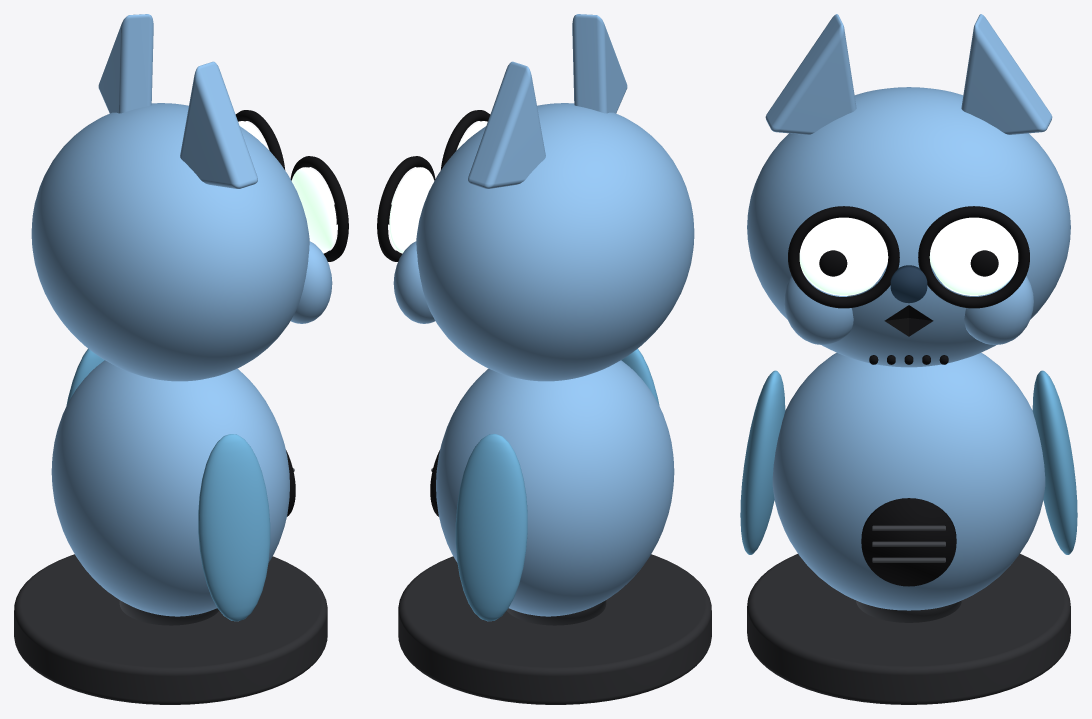
Rendered from sloppy_tron_v0.glb.
3 renders of one model, left to right at view 1: azimuth 30°, elevation 25°; view 2: azimuth 150°, elevation 25°; view 3: azimuth 270°, elevation 25°, orthographic. The views are drawn at different scales.
Visible parts, largest first — view 1: head_link__sloppy_mascot_shell, torso_link__rounded_sloppy_body, base_link__soft_tabletop_pedestal, right_side_fin__svg_arm_cue, antenna_right_link__sloppy_right_ear, antenna_left_link__sloppy_left_ear, right_eye_lens__svg_green_glow, right_cheek_blue_volume, right_eye_black_ring__svg_eyelid, body_yaw_joint__visual_axis, left_eye_black_ring__svg_eyelid, left_side_fin__svg_arm_cue; view 2: head_link__sloppy_mascot_shell, torso_link__rounded_sloppy_body, base_link__soft_tabletop_pedestal, left_side_fin__svg_arm_cue, antenna_left_link__sloppy_left_ear, antenna_right_link__sloppy_right_ear, left_eye_lens__svg_green_glow, left_cheek_blue_volume, left_eye_black_ring__svg_eyelid, body_yaw_joint__visual_axis, right_eye_black_ring__svg_eyelid, right_side_fin__svg_arm_cue; view 3: torso_link__rounded_sloppy_body, head_link__sloppy_mascot_shell, base_link__soft_tabletop_pedestal, antenna_left_link__sloppy_left_ear, antenna_right_link__sloppy_right_ear, speaker_link__front_grille, left_side_fin__svg_arm_cue, right_side_fin__svg_arm_cue, left_eye_lens__svg_green_glow, right_eye_lens__svg_green_glow, left_eye_black_ring__svg_eyelid, right_eye_black_ring__svg_eyelid (+7 smaller).
Boxes of the visible parts, bbox=[...] form: head_link__sloppy_mascot_shell: bbox=[31, 103, 309, 381]; torso_link__rounded_sloppy_body: bbox=[51, 360, 289, 616]; base_link__soft_tabletop_pedestal: bbox=[14, 554, 327, 704]; right_side_fin__svg_arm_cue: bbox=[198, 434, 270, 621]; antenna_right_link__sloppy_right_ear: bbox=[180, 61, 257, 188]; antenna_left_link__sloppy_left_ear: bbox=[98, 14, 153, 113]; right_eye_lens__svg_green_glow: bbox=[291, 167, 336, 253]; right_cheek_blue_volume: bbox=[290, 241, 332, 323]; right_eye_black_ring__svg_eyelid: bbox=[290, 156, 348, 261]; body_yaw_joint__visual_axis: bbox=[119, 600, 219, 625]; left_eye_black_ring__svg_eyelid: bbox=[235, 110, 285, 170]; left_side_fin__svg_arm_cue: bbox=[66, 348, 104, 405]; head_link__sloppy_mascot_shell: bbox=[416, 103, 694, 381]; torso_link__rounded_sloppy_body: bbox=[436, 360, 674, 616]; base_link__soft_tabletop_pedestal: bbox=[398, 554, 711, 704]; left_side_fin__svg_arm_cue: bbox=[455, 434, 527, 621]; antenna_left_link__sloppy_left_ear: bbox=[468, 61, 545, 188]; antenna_right_link__sloppy_right_ear: bbox=[572, 14, 627, 113]; left_eye_lens__svg_green_glow: bbox=[389, 167, 434, 253]; left_cheek_blue_volume: bbox=[393, 241, 435, 323]; left_eye_black_ring__svg_eyelid: bbox=[377, 156, 435, 261]; body_yaw_joint__visual_axis: bbox=[506, 600, 606, 625]; right_eye_black_ring__svg_eyelid: bbox=[440, 110, 490, 170]; right_side_fin__svg_arm_cue: bbox=[621, 348, 659, 405]; torso_link__rounded_sloppy_body: bbox=[772, 352, 1045, 610]; head_link__sloppy_mascot_shell: bbox=[747, 87, 1070, 367]; base_link__soft_tabletop_pedestal: bbox=[747, 554, 1070, 704]; antenna_left_link__sloppy_left_ear: bbox=[961, 14, 1052, 134]; antenna_right_link__sloppy_right_ear: bbox=[765, 14, 856, 134]; speaker_link__front_grille: bbox=[861, 498, 956, 586]; left_side_fin__svg_arm_cue: bbox=[1032, 370, 1077, 554]; right_side_fin__svg_arm_cue: bbox=[740, 370, 785, 554]; left_eye_lens__svg_green_glow: bbox=[929, 217, 1018, 295]; right_eye_lens__svg_green_glow: bbox=[799, 217, 888, 295]; left_eye_black_ring__svg_eyelid: bbox=[918, 206, 1029, 308]; right_eye_black_ring__svg_eyelid: bbox=[788, 206, 899, 308].
Size of what is drawn, in the model's own units: 0.184 by 0.3895 by 0.1915.
